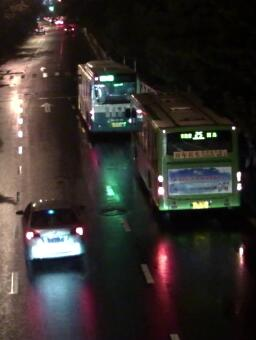bus: (128, 87, 247, 213), (77, 58, 143, 140)
car: (15, 198, 86, 272), (62, 23, 77, 34), (33, 24, 44, 34)
